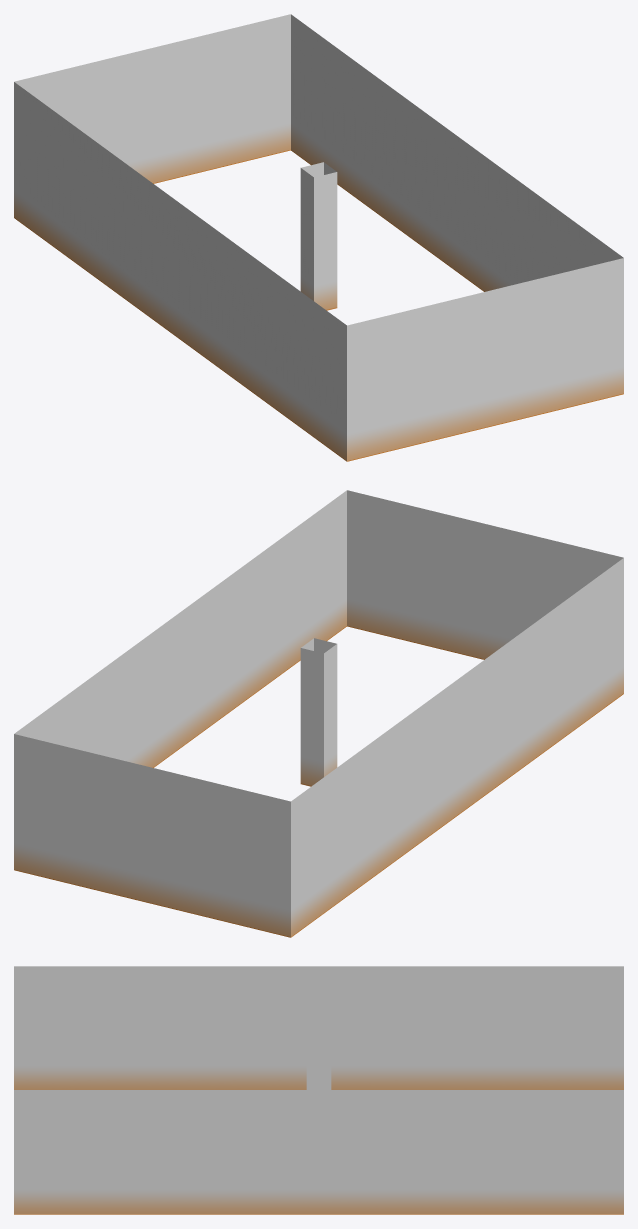
The model's file is ForceField.fbx.
The picture shows the model from 3 angles, top to bottom: view 1: azimuth 30°, elevation 25°; view 2: azimuth 150°, elevation 25°; view 3: azimuth 270°, elevation 25°; orthographic projection. The views are drawn at different scales.
Parts seen in each view (by area): view 1: ForceField_Map, ForceField_Podium; view 2: ForceField_Map, ForceField_Podium; view 3: ForceField_Map, ForceField_Podium.
Boxes of the visible parts, x1,y1,x2,y2 form: ForceField_Map: [14, 14, 623, 461]; ForceField_Podium: [300, 162, 337, 310]; ForceField_Map: [14, 490, 623, 937]; ForceField_Podium: [300, 638, 337, 786]; ForceField_Map: [14, 966, 623, 1214]; ForceField_Podium: [306, 1023, 331, 1089].
Bounding box in the file's own units: 24 × 11.29 × 50.
